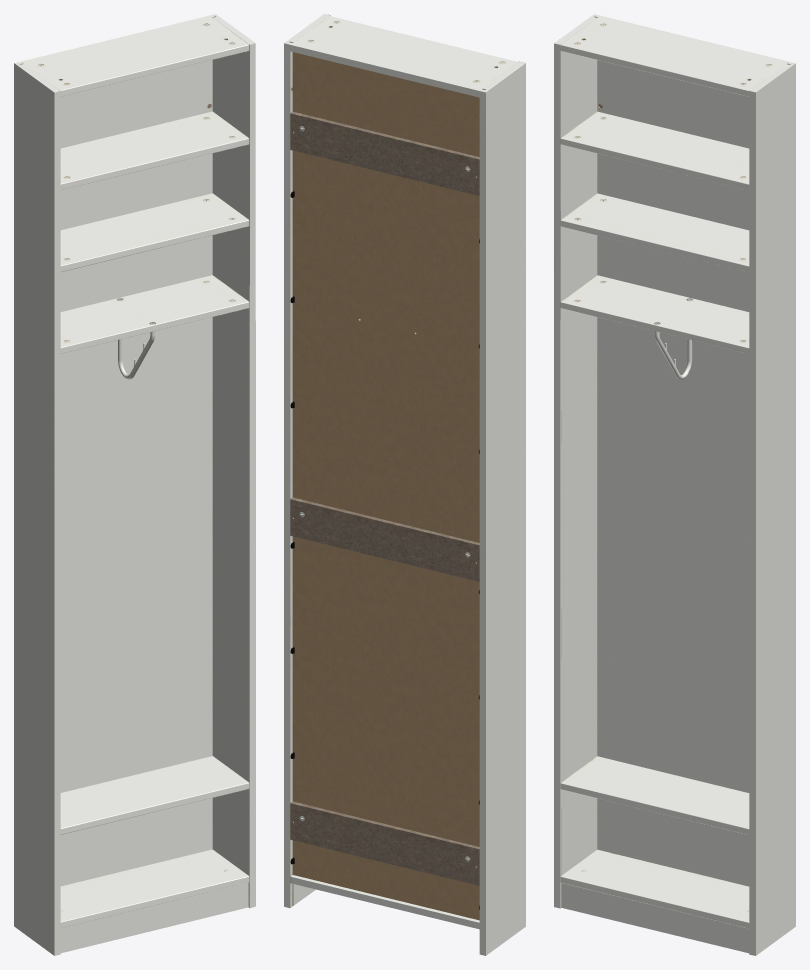
File: pax_dodatkowy_segment_boczny_10603854.glb
The picture shows the model from 3 angles, left to right: view 1: azimuth 30°, elevation 25°; view 2: azimuth 150°, elevation 25°; view 3: azimuth 330°, elevation 25°; orthographic projection.
Parts seen in each view (by area): view 1: pax_dodatkowy_segment_boczny_10603854; view 2: pax_dodatkowy_segment_boczny_10603854; view 3: pax_dodatkowy_segment_boczny_10603854.
Boxes of the visible parts, x1,y1,x2,y2 form: pax_dodatkowy_segment_boczny_10603854: (14, 14, 255, 955); pax_dodatkowy_segment_boczny_10603854: (284, 14, 525, 955); pax_dodatkowy_segment_boczny_10603854: (554, 14, 795, 955).
Bounding box in the file's own units: 0.5781 × 2.36 × 0.2005.
1 material, 1 textured.
